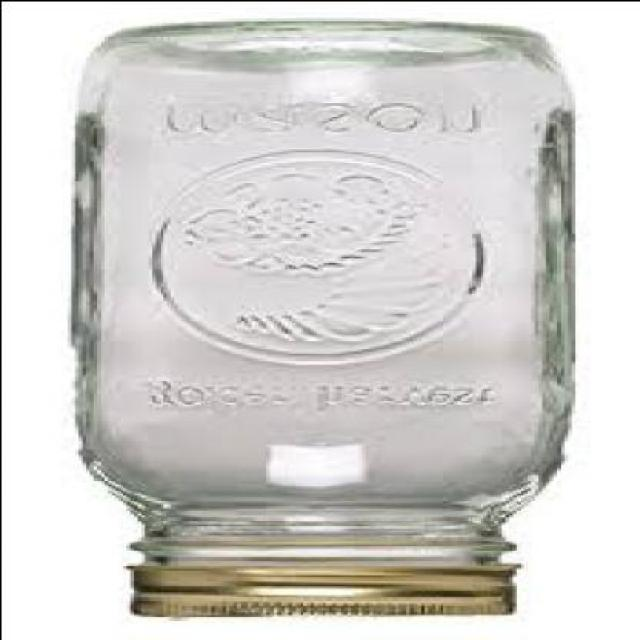GLASS: (70, 25, 570, 569)
METAL: (124, 565, 516, 620)
